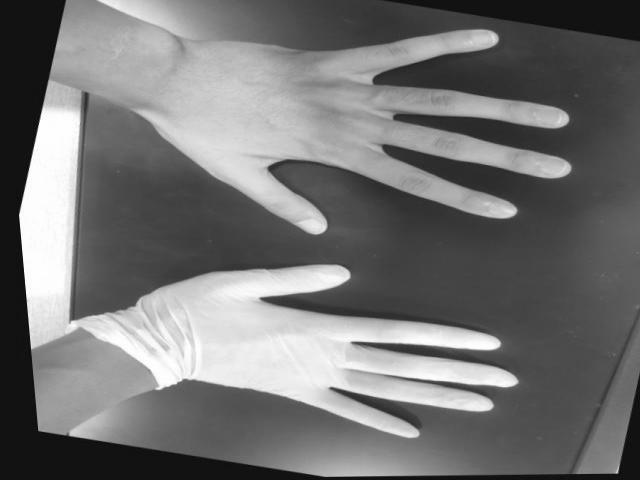gloved: (167, 24, 573, 237), (160, 262, 520, 440)
